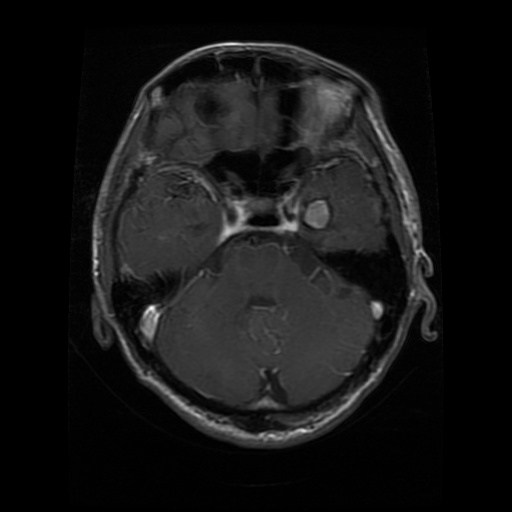glioma: (303, 198, 331, 229)
